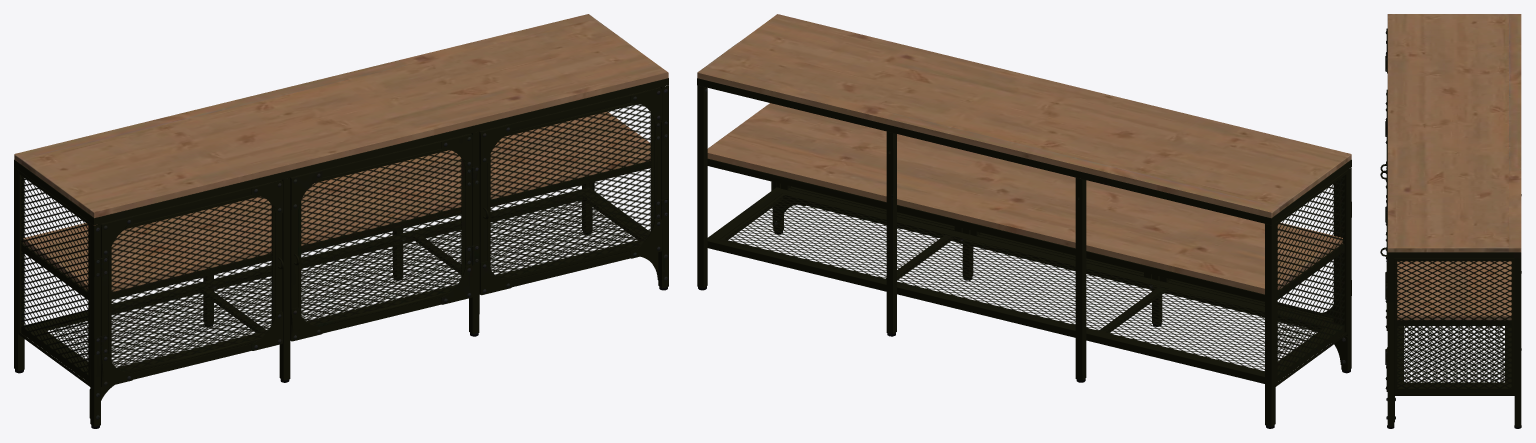
The picture shows the model from 3 angles, left to right: view 1: azimuth 30°, elevation 25°; view 2: azimuth 150°, elevation 25°; view 3: azimuth 270°, elevation 25°; orthographic projection. The views are drawn at different scales.
Visible parts, largest first — view 1: 90339290-FJÃƒâ€žLLBO001, Plane; view 2: 90339290-FJÃƒâ€žLLBO001, Plane; view 3: 90339290-FJÃƒâ€žLLBO001, Plane.
Part boxes in pixels (<box>): 90339290-FJÃƒâ€žLLBO001: <box>14,14,668,428</box>; Plane: <box>21,104,651,378</box>; 90339290-FJÃƒâ€žLLBO001: <box>697,14,1351,428</box>; Plane: <box>719,177,1344,378</box>; 90339290-FJÃƒâ€žLLBO001: <box>1380,14,1521,428</box>; Plane: <box>1397,261,1511,392</box>.
Bounding box in the file's own units: 1.49 × 0.5383 × 0.3802.
Materials: 2 (2 with a texture image).
